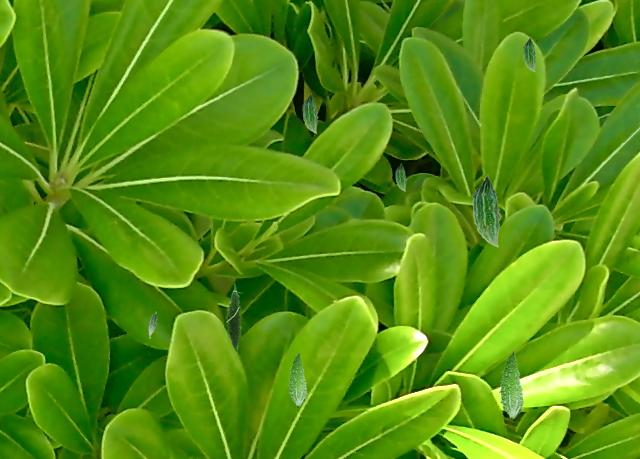ampalaya: (471, 174, 501, 247), (498, 349, 524, 420), (225, 282, 243, 353), (287, 351, 308, 408), (301, 92, 318, 134), (522, 36, 536, 72), (394, 162, 407, 191), (148, 311, 157, 338)
